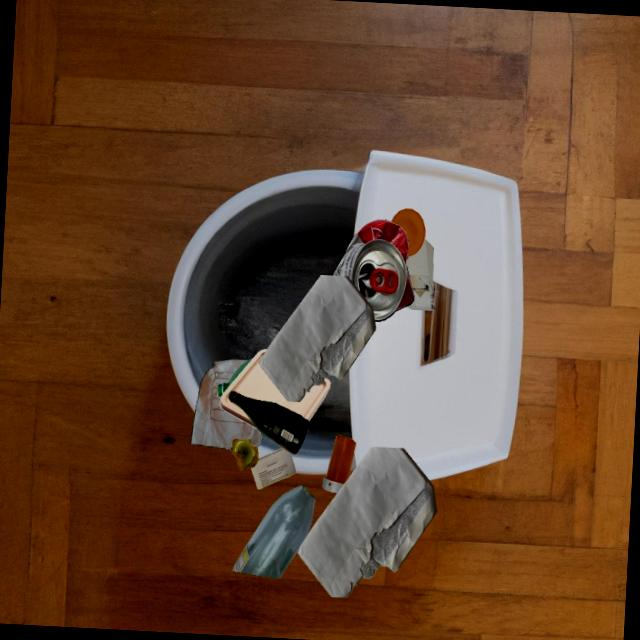biowaste: (231, 439, 259, 471)
cardboard: (406, 240, 436, 311)
combustible waste: (220, 349, 331, 429)
glass: (232, 485, 315, 579), (228, 391, 310, 455)
metal: (334, 219, 414, 321)
paper: (298, 447, 437, 598), (259, 275, 376, 402), (190, 359, 262, 450), (251, 448, 296, 489)
plastic: (322, 435, 356, 493), (391, 209, 425, 257), (217, 358, 253, 397)
